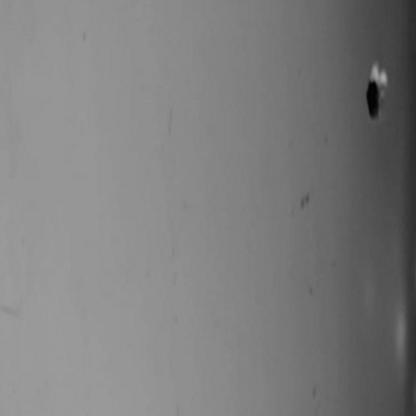kongdong: (358, 59, 393, 127)
